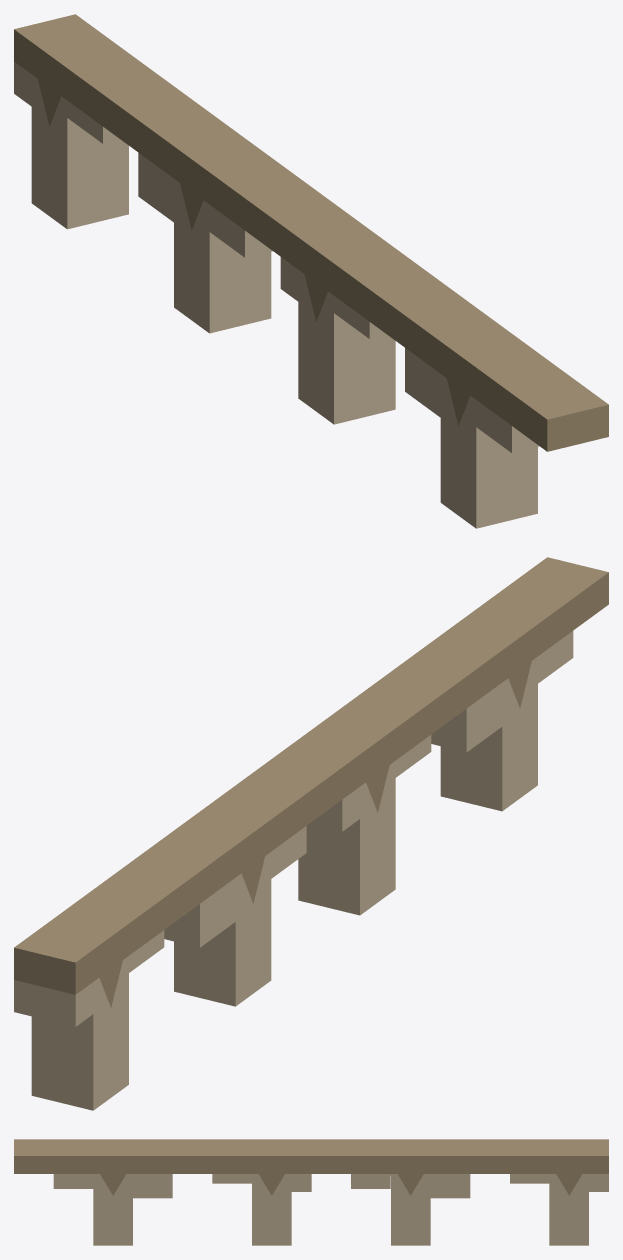
The model's file is LightSandStoneArchLargeBrokenArchway1.fbx.
3 views of the same model, one above another, from view 1: azimuth 30°, elevation 25°; view 2: azimuth 150°, elevation 25°; view 3: azimuth 270°, elevation 25° (orthographic). The views are drawn at different scales.
Parts seen in each view (by area): view 1: LightSandStoneArchLargeBrokenArchway1; view 2: LightSandStoneArchLargeBrokenArchway1; view 3: LightSandStoneArchLargeBrokenArchway1.
Part boxes in pixels (x1,y1,x2,y2): LightSandStoneArchLargeBrokenArchway1: (14,14,608,528); LightSandStoneArchLargeBrokenArchway1: (14,557,608,1110); LightSandStoneArchLargeBrokenArchway1: (14,1139,608,1245).
Bounding box in the file's own units: 200 × 500 × 3000.
